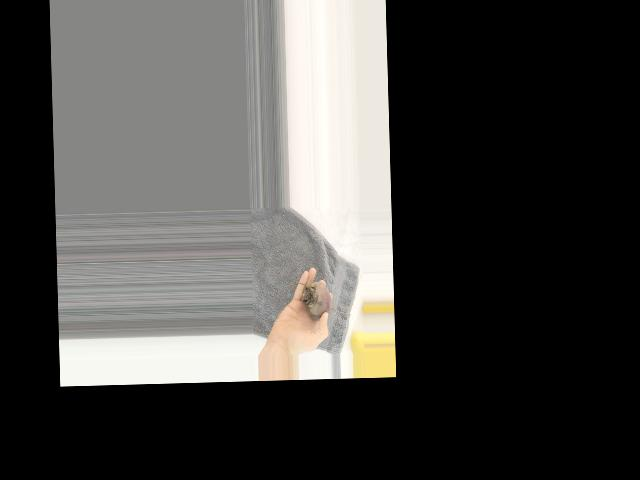beet: (300, 281, 351, 321)
